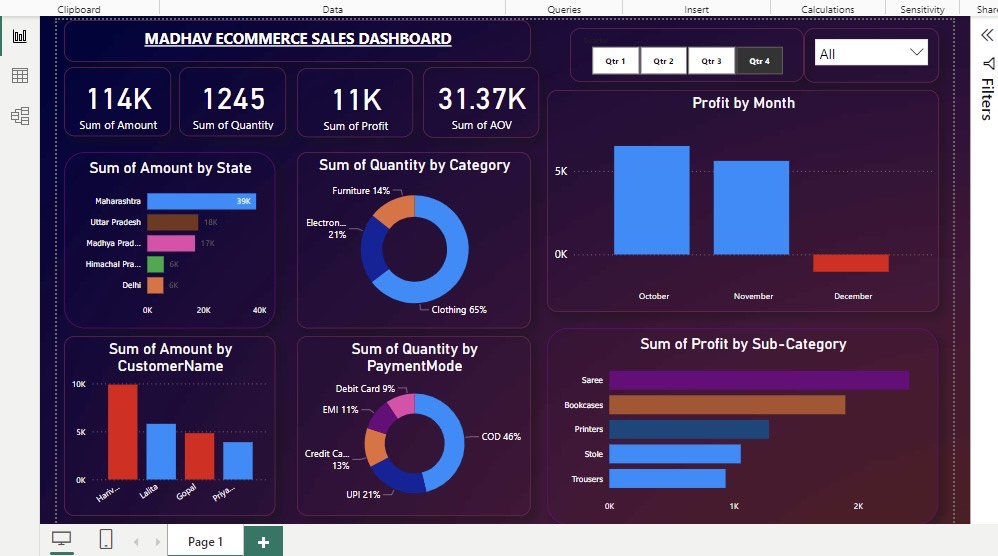

This screenshot's page, from the dashboard's own definition file:
{"tool":"powerbi","page":{"name":"Page 1","canvas":[1280,720],"ordinal":0},"visuals":[{"type":"textbox","box":[10.1,0,666.7,60.5],"z":0},{"type":"columnChart","title":"Profit by Month","fields":{"Category":["Orders.Order Date.Variation.Date Hierarchy.Month"],"Y":["Sum(Details.Profit)"]},"box":[699.8,99.4,560.2,316.8],"z":1000},{"type":"barChart","fields":{"Category":["Details.Sub-Category"],"Y":["Sum(Details.Profit)"]},"box":[700.5,440.1,559.4,280.5],"z":2000},{"type":"donutChart","fields":{"Category":["Details.Category"],"Y":["Sum(Details.Quantity)"]},"box":[342.7,188.1,334.3,252],"z":3000},{"type":"donutChart","fields":{"Category":["Details.PaymentMode"],"Y":["Sum(Details.Quantity)"]},"box":[342.7,451.9,334.3,257],"z":4000},{"type":"card","fields":{"Values":["Sum(Details.Amount)"]},"box":[10.1,67.2,152.9,99.1],"z":5000},{"type":"card","fields":{"Values":["Sum(Details.Profit)"]},"box":[342.7,68.9,166.3,99.1],"z":6000},{"type":"card","fields":{"Values":["Sum(Details.Quantity)"]},"box":[174.7,67.2,152.9,99.1],"z":7000},{"type":"card","fields":{"Values":["Sum(Details.AOV)"]},"box":[522.4,67.2,166.3,100.8],"z":8000},{"type":"barChart","fields":{"Category":["Orders.State"],"Y":["Sum(Details.Amount)"]},"box":[10.1,188.1,302.4,252],"z":9000},{"type":"columnChart","fields":{"Category":["Orders.CustomerName"],"Y":["Sum(Details.Amount)"]},"box":[10.1,451.9,302.4,257],"z":10000},{"type":"slicer","fields":{"Values":["Orders.Order Date.Variation.Date Hierarchy.Quarter"]},"box":[732.4,11.8,334.3,77.3],"z":11000},{"type":"slicer","fields":{"Values":["Orders.State"]},"box":[1067,11.5,193,77.8],"z":12000}]}

Visuals, with their boxes on the page's 1280x720 design canvas (x1, y1, x2, y2). These are canvas units, not pixel positions in the 998x556 screenshot, which may show the page scaled, cropped or inside an application window:
textbox: [10,0,677,60]
"Profit by Month" columnChart: [700,99,1260,416]
barChart - Details.Sub-Category x Sum(Details.Profit): [700,440,1260,721]
donutChart - Details.Category x Sum(Details.Quantity): [343,188,677,440]
donutChart - Details.PaymentMode x Sum(Details.Quantity): [343,452,677,709]
card - Sum(Details.Amount): [10,67,163,166]
card - Sum(Details.Profit): [343,69,509,168]
card - Sum(Details.Quantity): [175,67,328,166]
card - Sum(Details.AOV): [522,67,689,168]
barChart - Orders.State x Sum(Details.Amount): [10,188,312,440]
columnChart - Orders.CustomerName x Sum(Details.Amount): [10,452,312,709]
slicer - Orders.Order Date.Variation.Date Hierarchy.Quarter: [732,12,1067,89]
slicer - Orders.State: [1067,12,1260,89]
